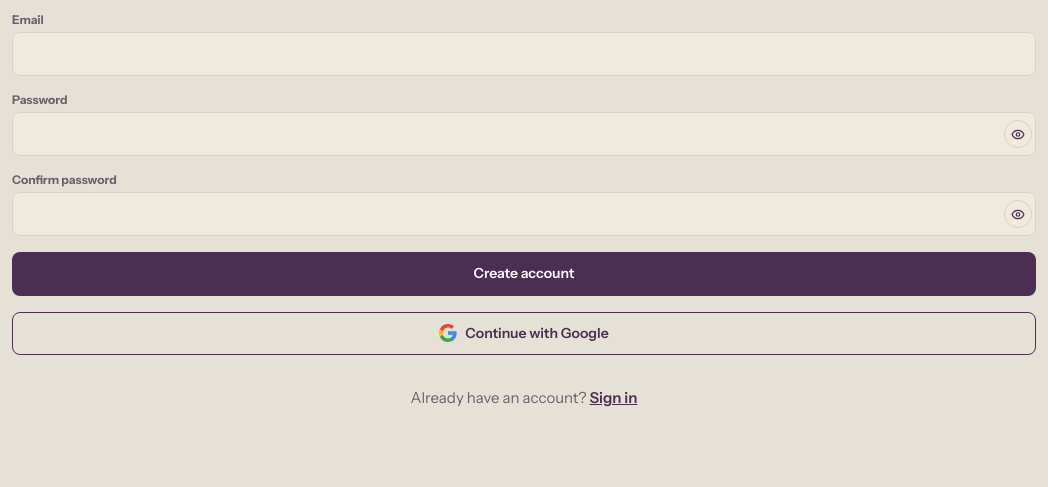
Scenario: SignUpForm › renders a Banner with the sign-up error copy and does not clear entered values on failure
The image size is (1048, 487).
Type "taken@example.com" into the field labelled "Email" at (524, 54), box [12,32,1036,76]
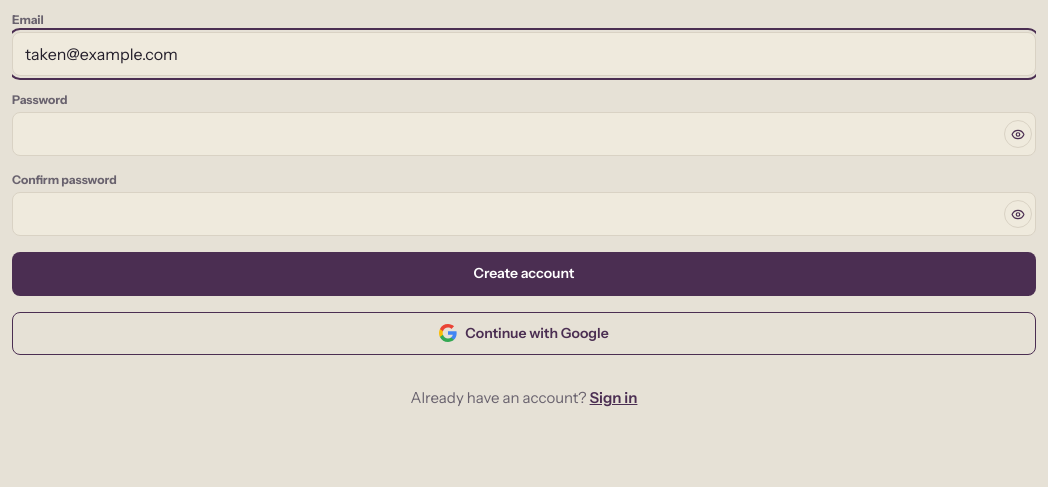
Type "longenough" into the password field labelled "Password" at (524, 134), box [12,112,1036,156]
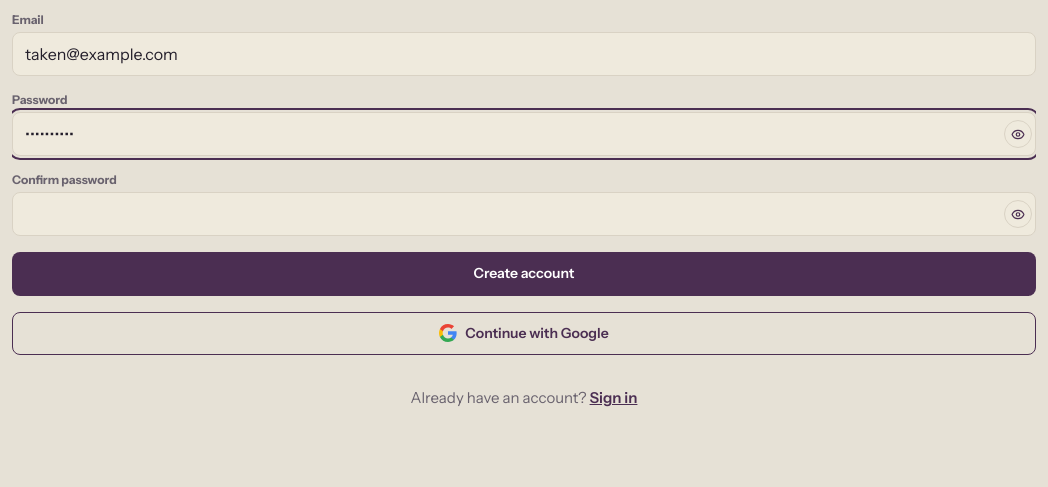
Type "longenough" into the password field labelled "Confirm password" at (524, 214), box [12,192,1036,236]
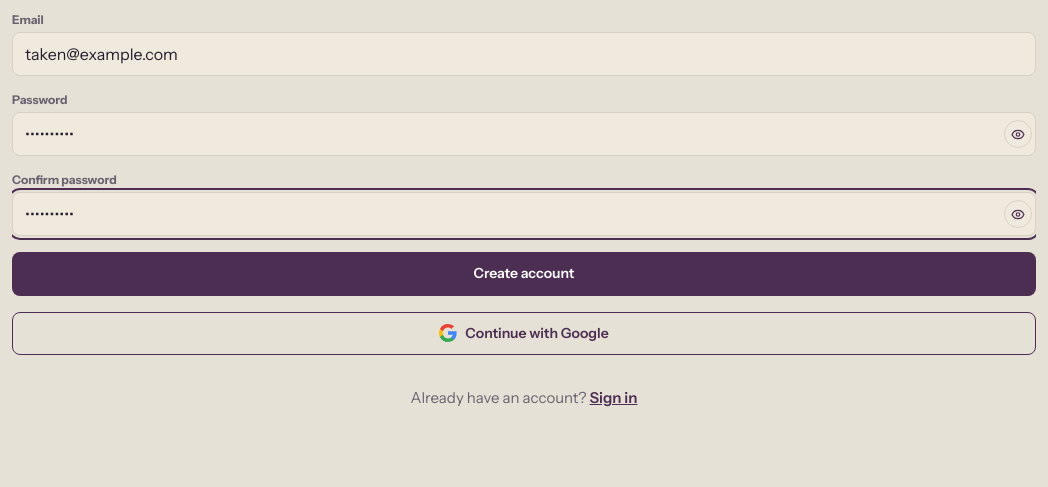
Click the button "Create account" at (524, 274), box [12,252,1036,296]
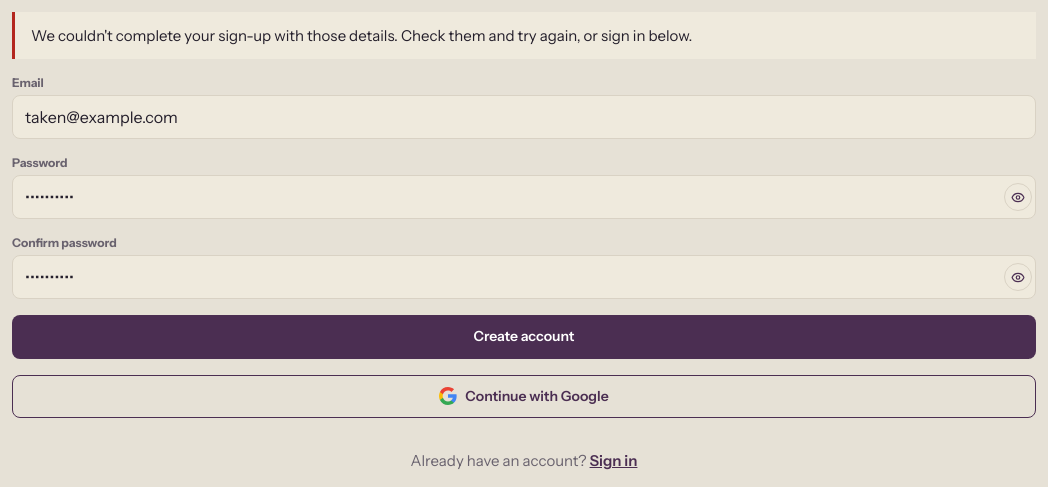
Result: the text "We couldn't complete your sign-up with those details. Check them and try again, or sign in below." is shown at [31,26,692,45]
